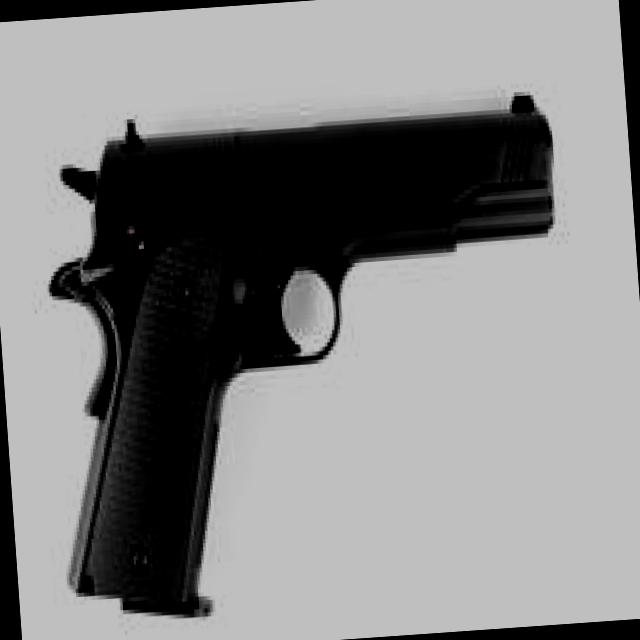semi automatic: (29, 49, 604, 640)
